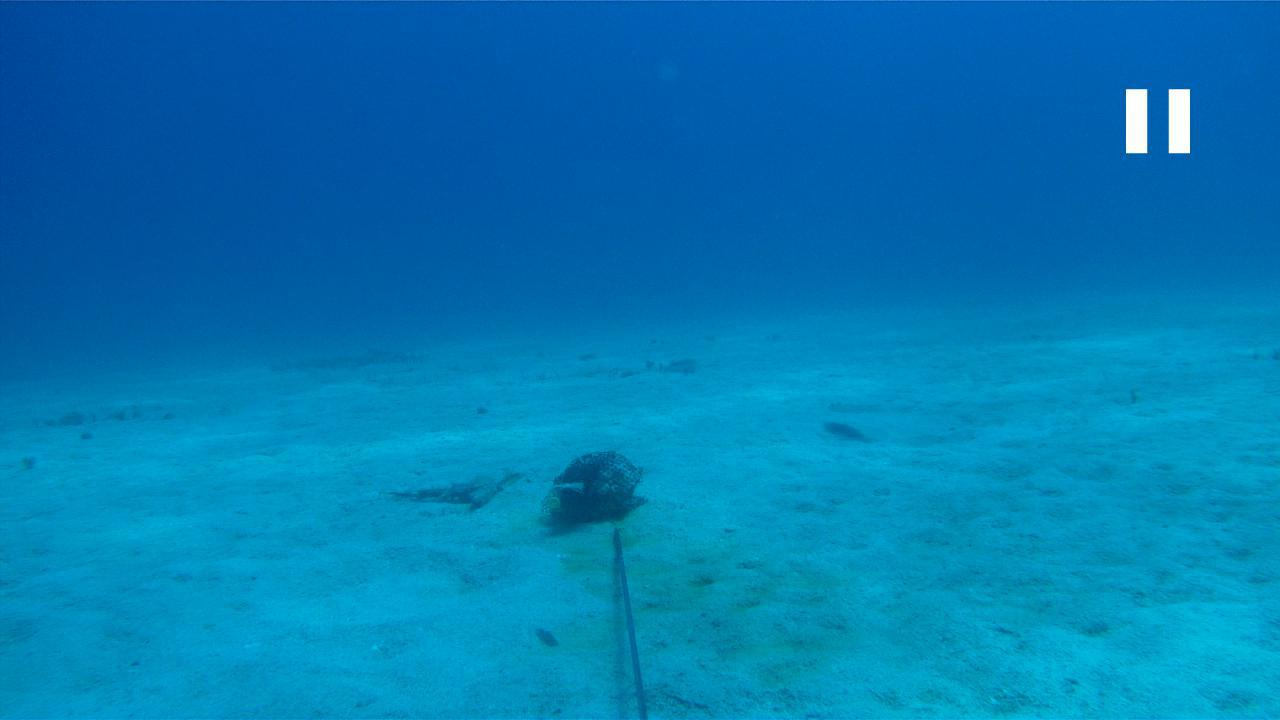bothus: (825, 397, 886, 414)
